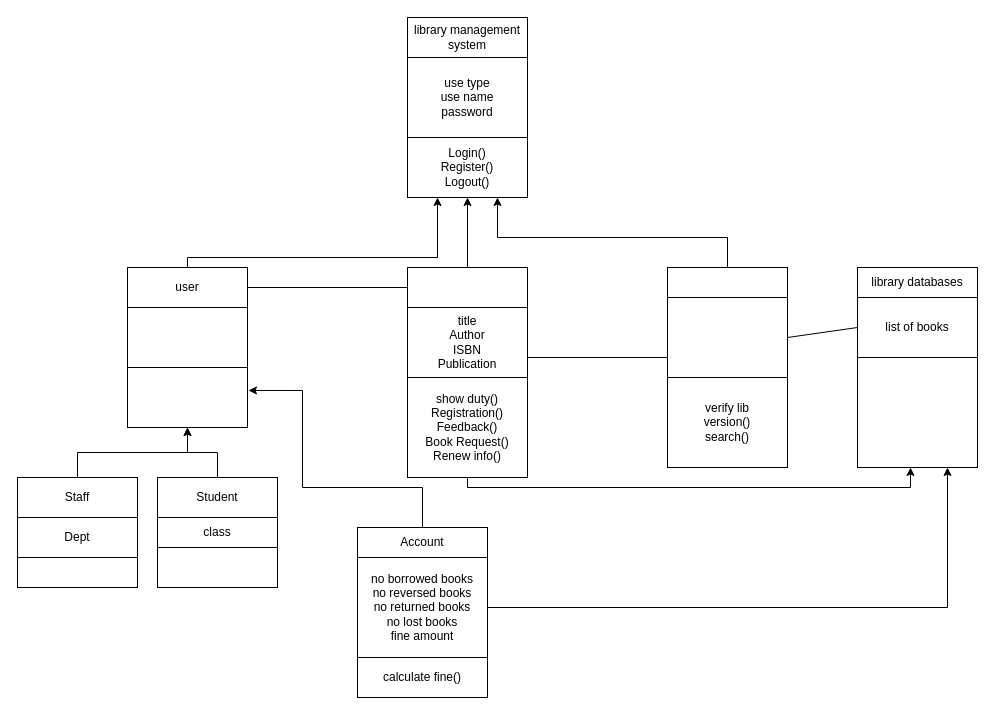
Some shapes in this 995 by 715 pixel diagram are drawn without their labels. The centre of each missing label's shape, as x and y in pixels:
"add() delete() update() display() search()" belongs at point 917,412.
"book" belongs at point 467,287.
"libration" belongs at point 727,282.
"Name ID" belongs at point 187,337.
"name id password search string" belongs at point 727,337.
"Verify() Check Account() get.book,info" belongs at point 187,397.
